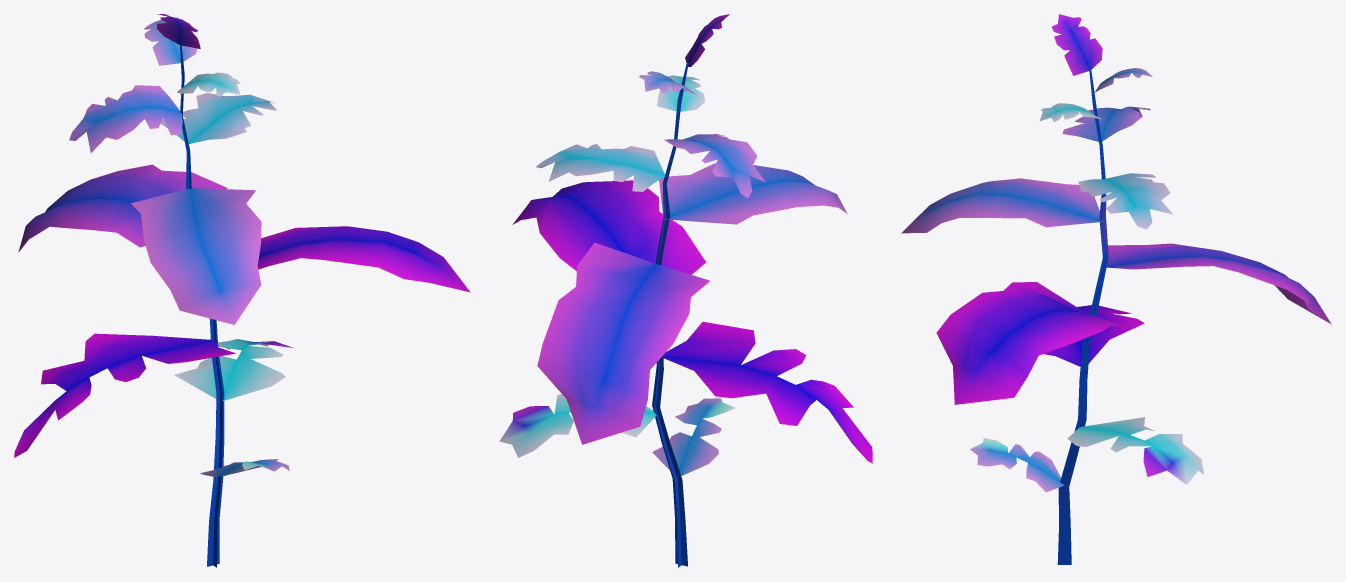
Rendered from Black_Locust_wdvhberja_Mid_wdvhberja_VarE_LOD1.fbx.
The picture shows the model from 3 angles, left to right: view 1: azimuth 30°, elevation 25°; view 2: azimuth 150°, elevation 25°; view 3: azimuth 270°, elevation 25°; orthographic projection. The views are drawn at different scales.
Parts seen in each view (by area): view 1: _cjdw_VarE_LOD2; view 2: _cjdw_VarE_LOD2; view 3: _cjdw_VarE_LOD2.
Part boxes in pixels (x1,y1,x2,y2): _cjdw_VarE_LOD2: (14,14,470,567); _cjdw_VarE_LOD2: (499,14,872,567); _cjdw_VarE_LOD2: (901,14,1331,564).
Bounding box in the file's own units: 36.68 × 49.95 × 36.78.
